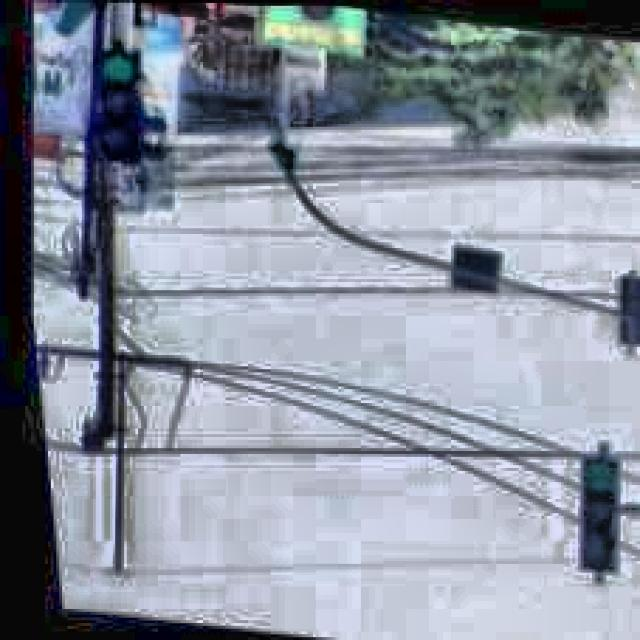green: (78, 45, 148, 169), (558, 452, 620, 574)
